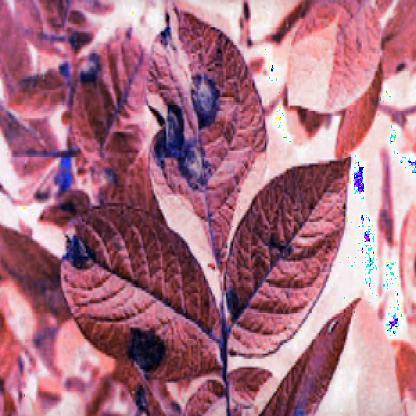Potato leaf late blight: (142, 9, 270, 262), (61, 207, 225, 380), (226, 148, 351, 361), (260, 300, 368, 414)
